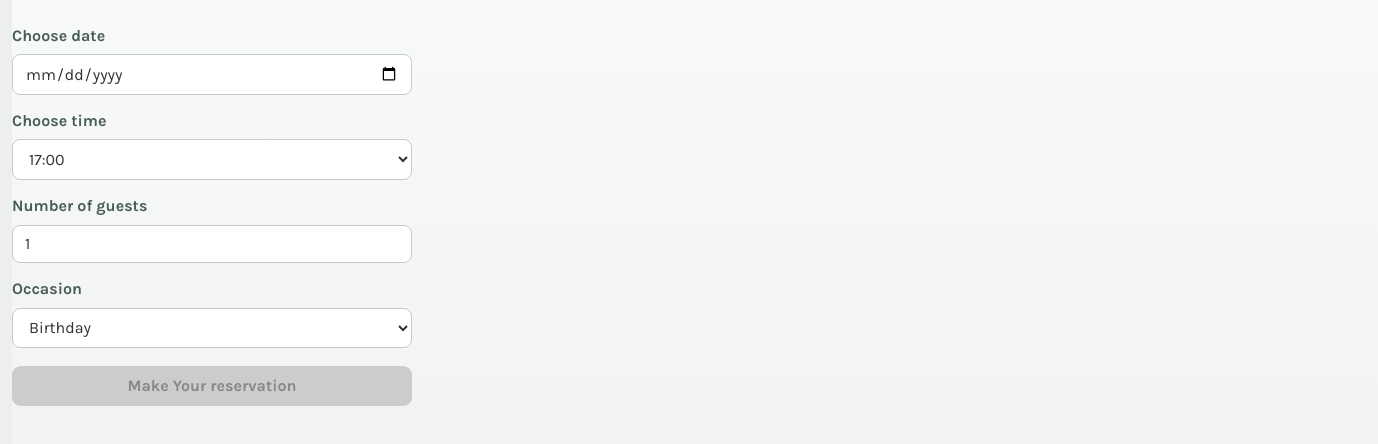
shows error message when past date is entered
Type "2000-01-01" into the date field labelled "Choose date". click: (212, 74)
box: [12,54,412,95]
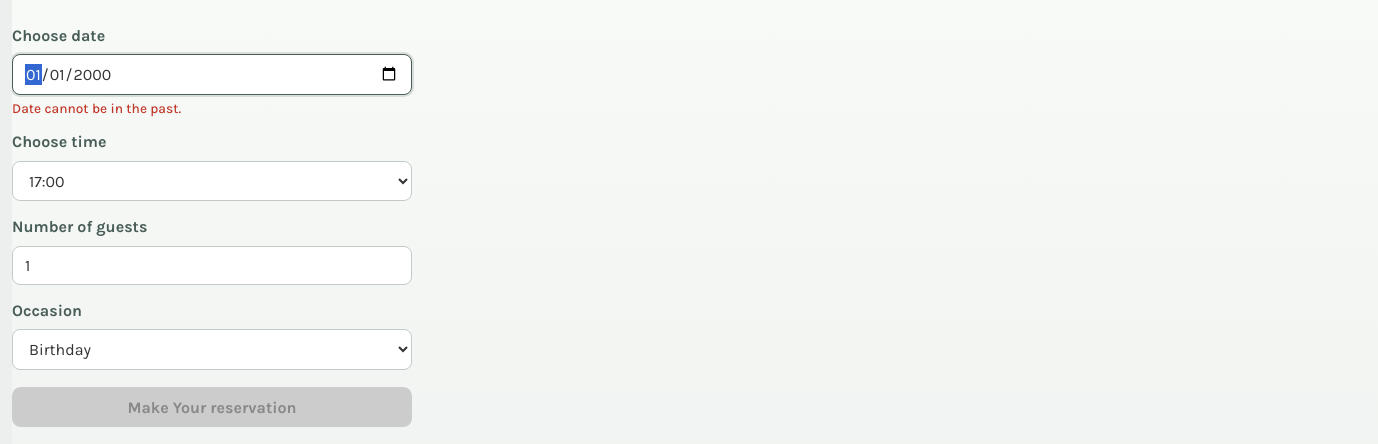
Check: the message "Date cannot be in the past." is shown, box [12,101,181,116]
